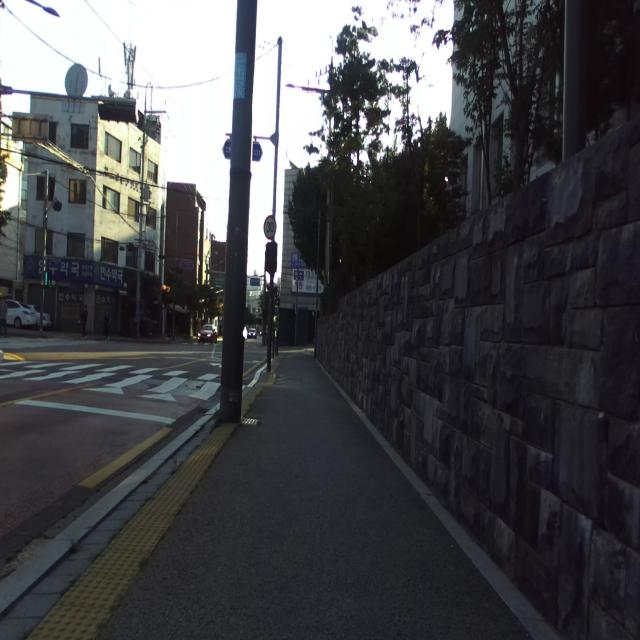초록불: (44, 270, 52, 287)
횡단보도: (0, 369, 224, 402)
